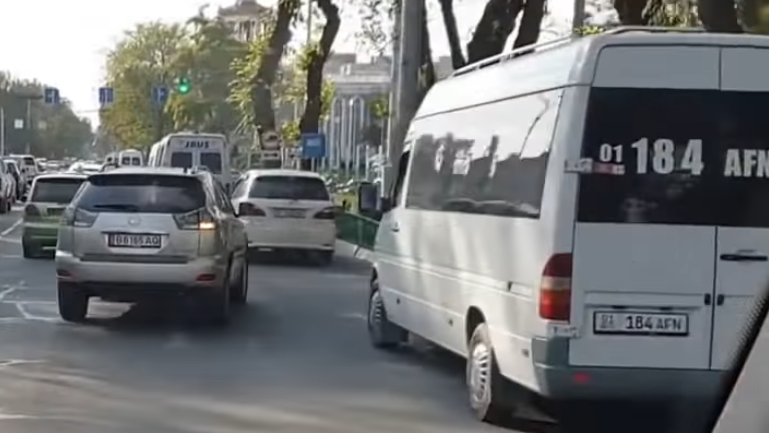non emergency car: (372, 29, 767, 423), (59, 170, 247, 329), (227, 173, 334, 264), (24, 169, 93, 260), (147, 130, 228, 172)
